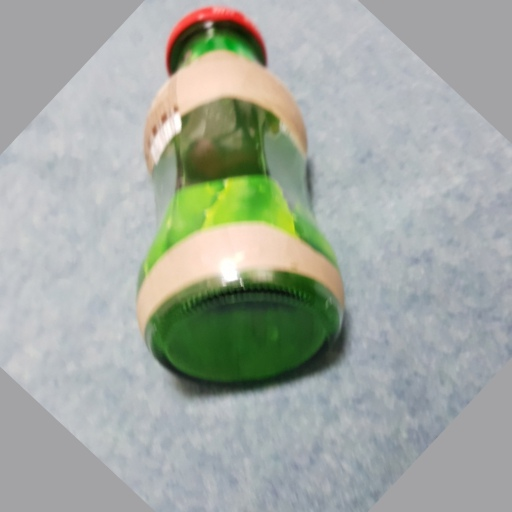Glass_4: (142, 5, 348, 382)
